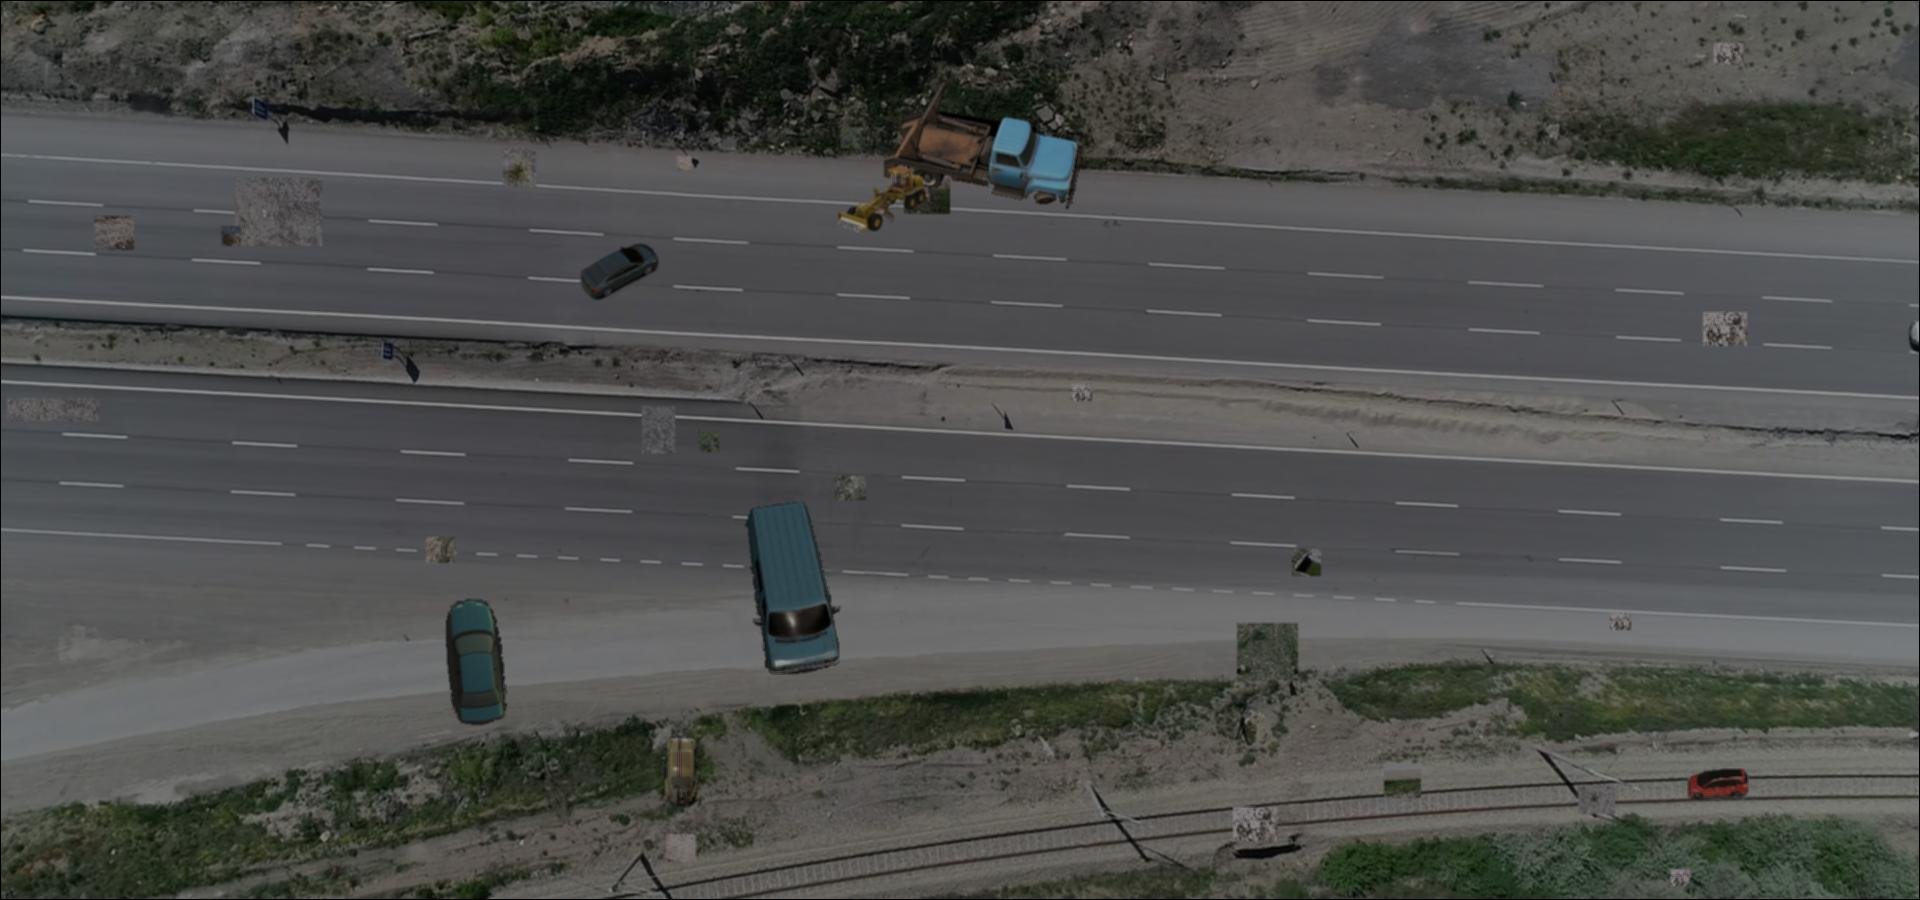arac: (884, 82, 1084, 209), (744, 500, 842, 673), (444, 599, 509, 726), (836, 163, 934, 235), (578, 241, 661, 300), (661, 736, 700, 807), (1689, 769, 1749, 800)
